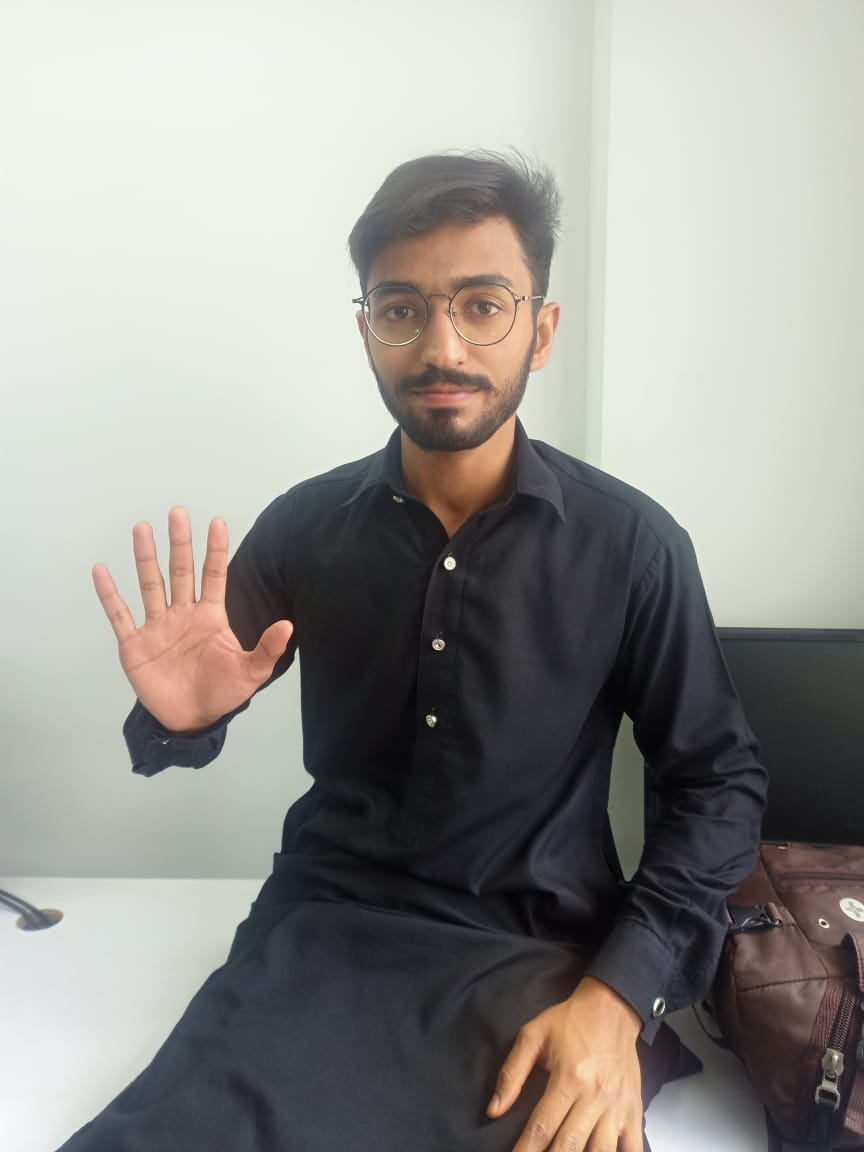Hello: (66, 497, 315, 739)
